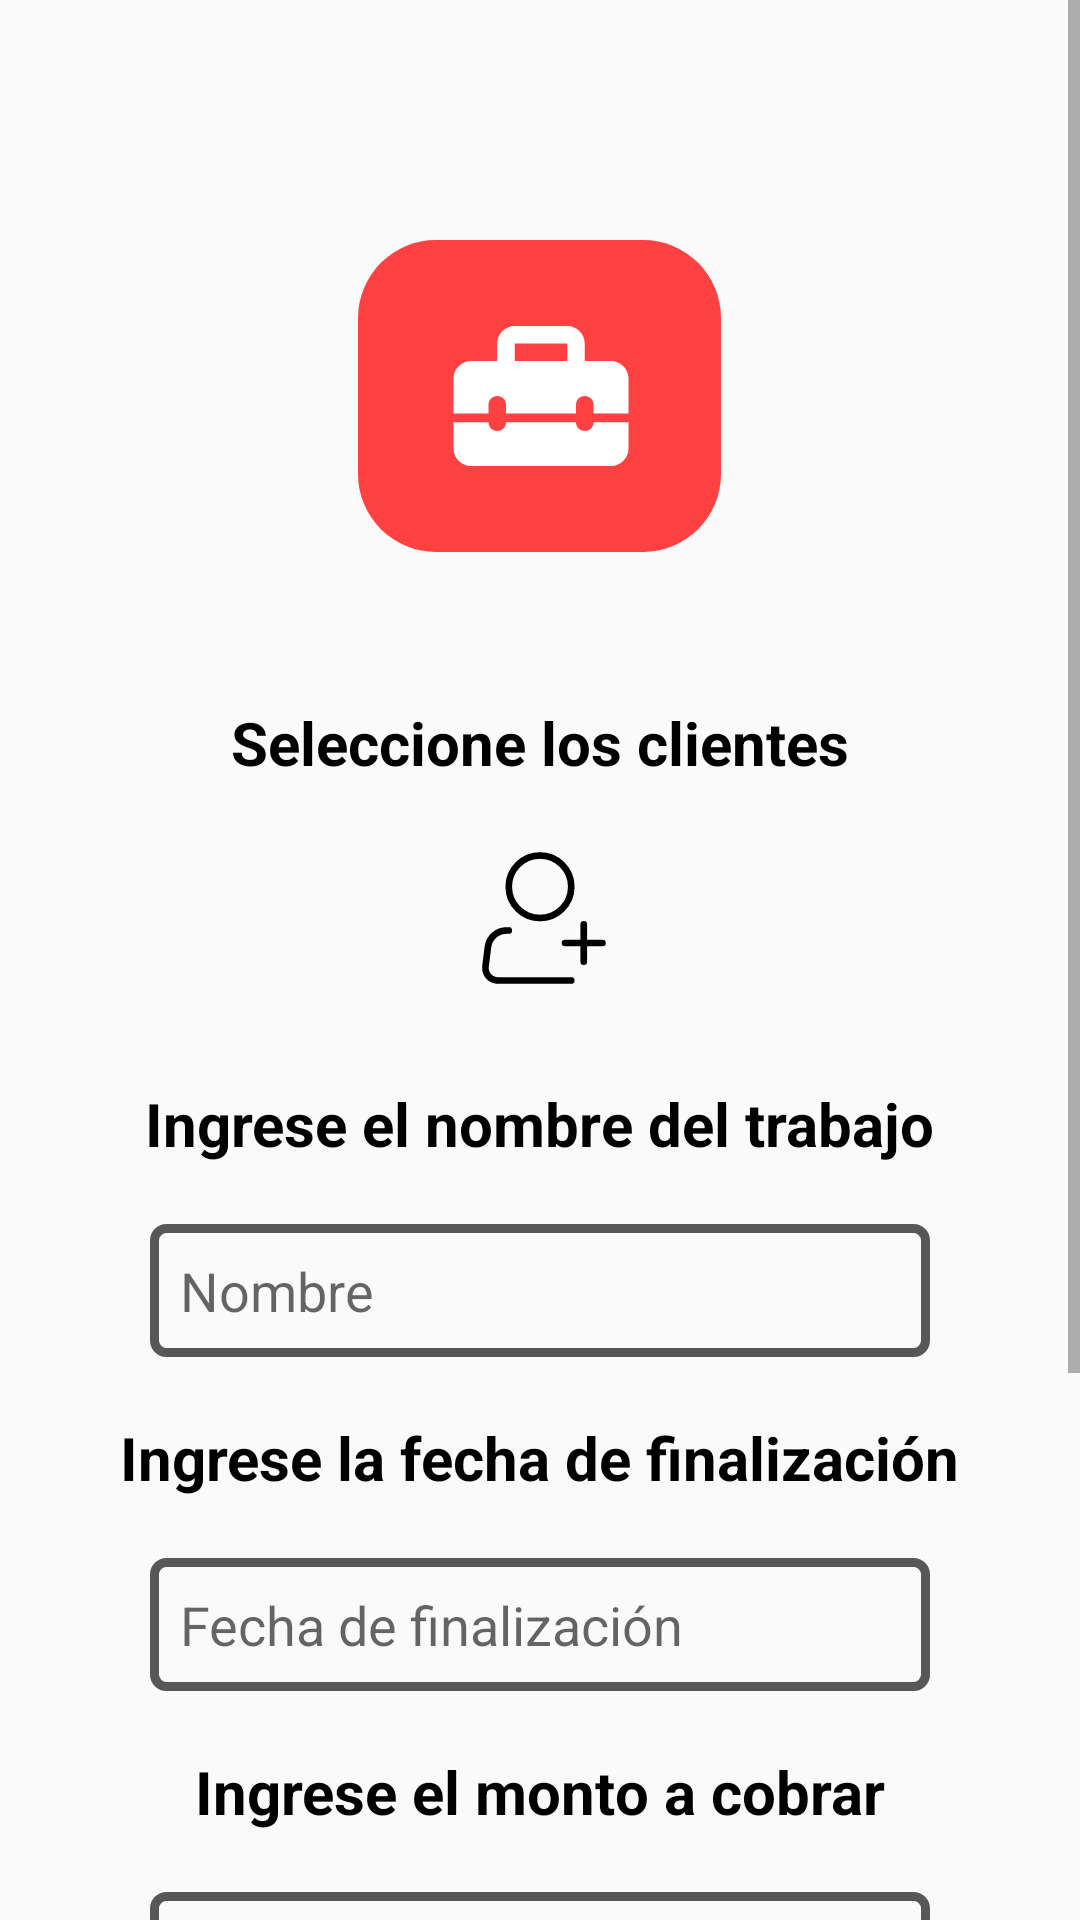

Named icons in this screenshot (1080w x 1920h) and their centers, point (x, y):
client add: point (544, 918)
